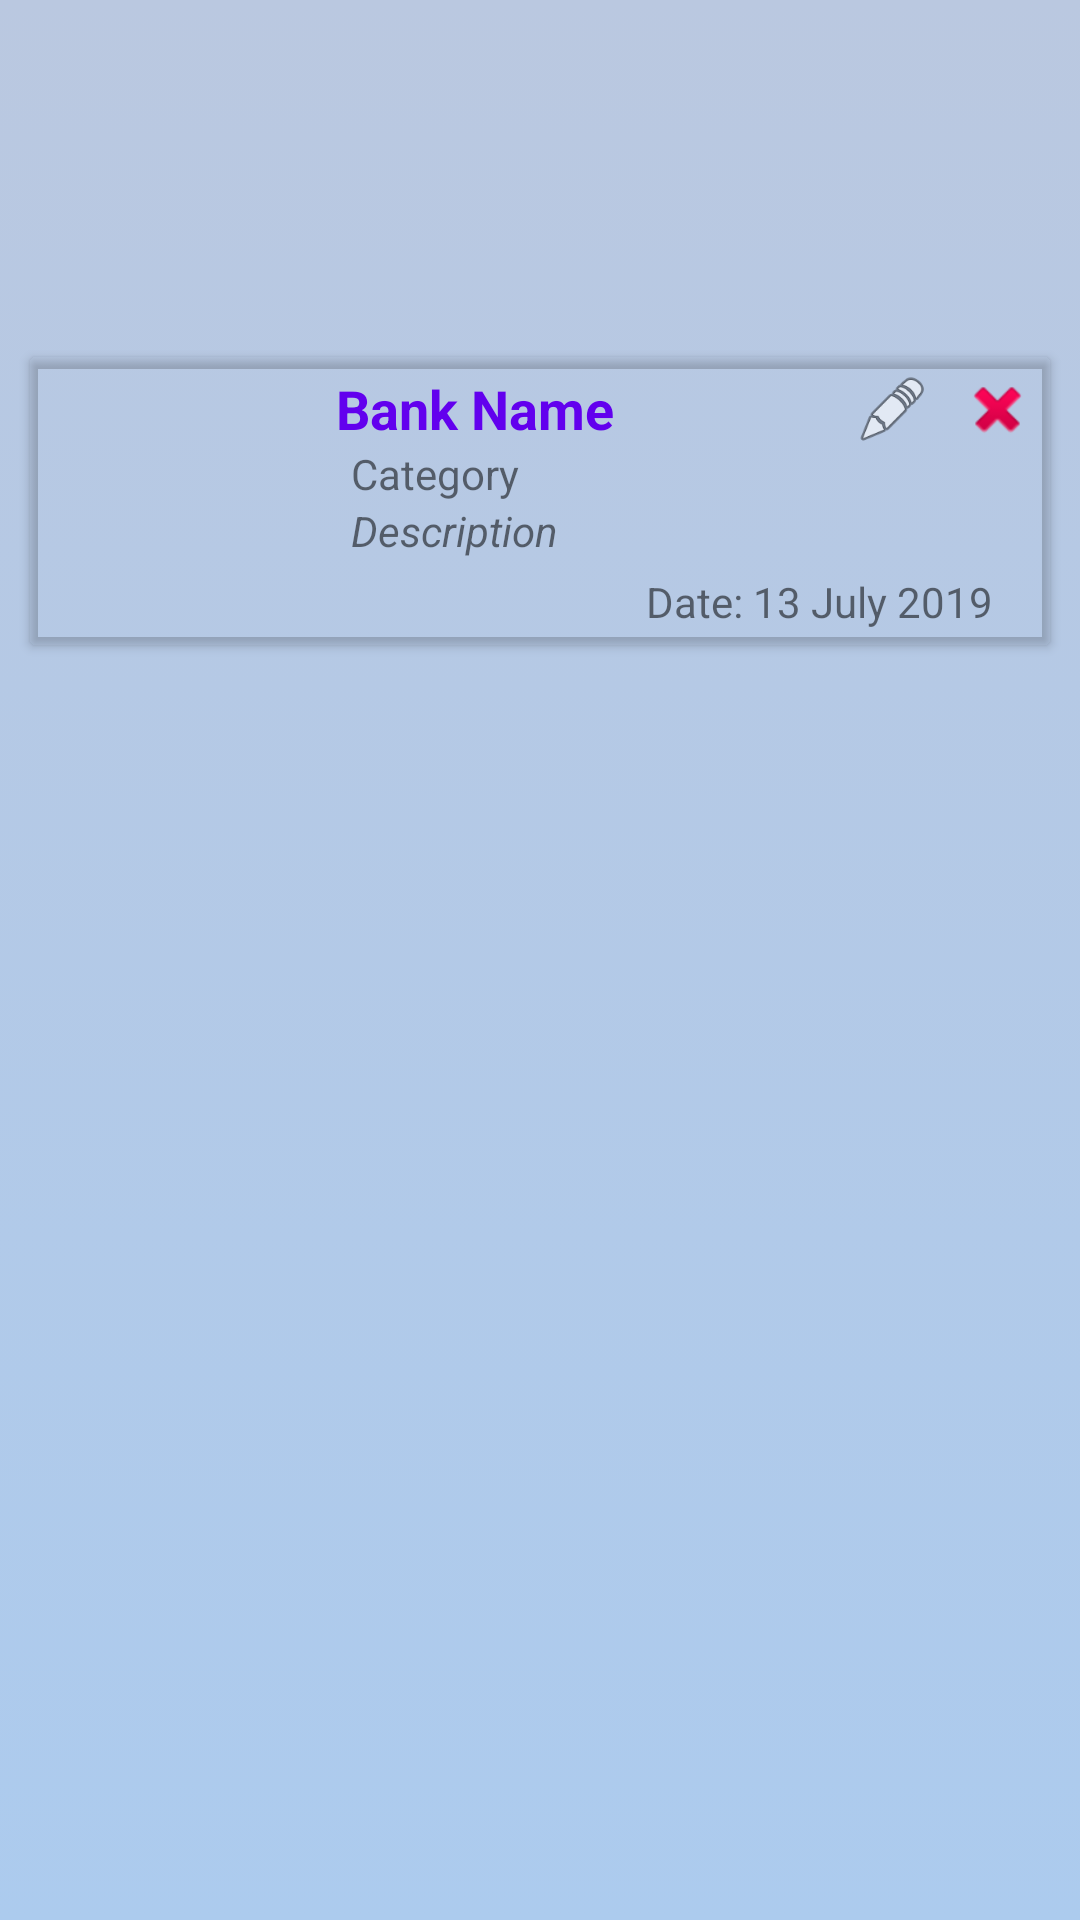

Where to tap for icons on this 1080 x 1920 app screen, as (x,y):
delete: (997,409)
edit: (892,409)
